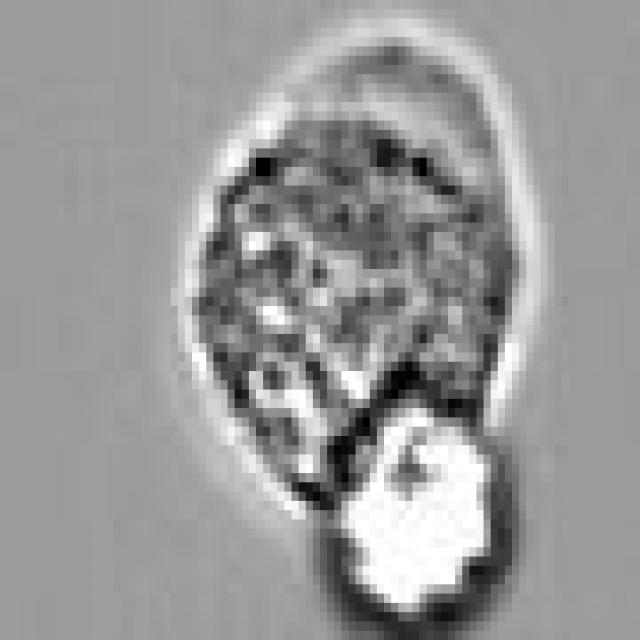Cancer Cell: (185, 28, 526, 510)
WBC: (334, 389, 505, 622)
